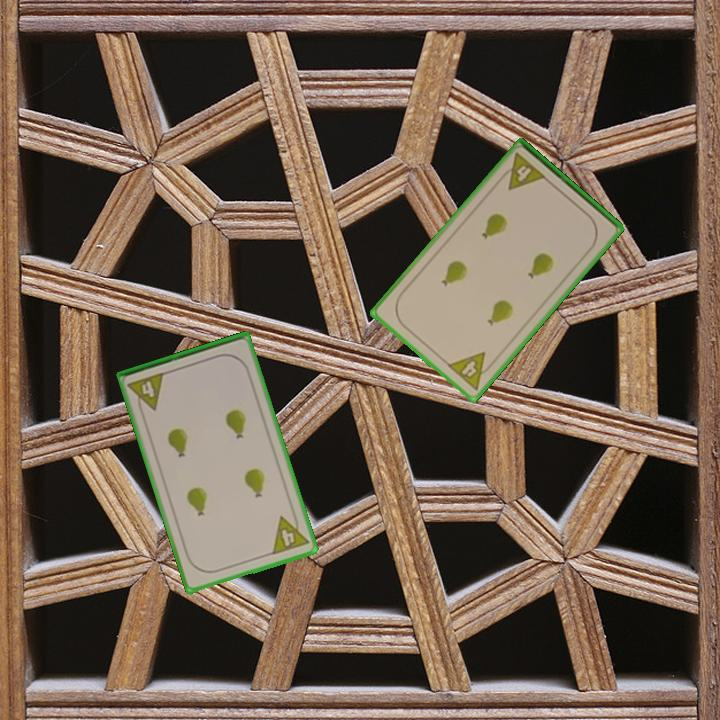4p: (444, 348, 498, 393), (496, 149, 549, 194), (268, 509, 312, 558), (124, 369, 168, 416)
